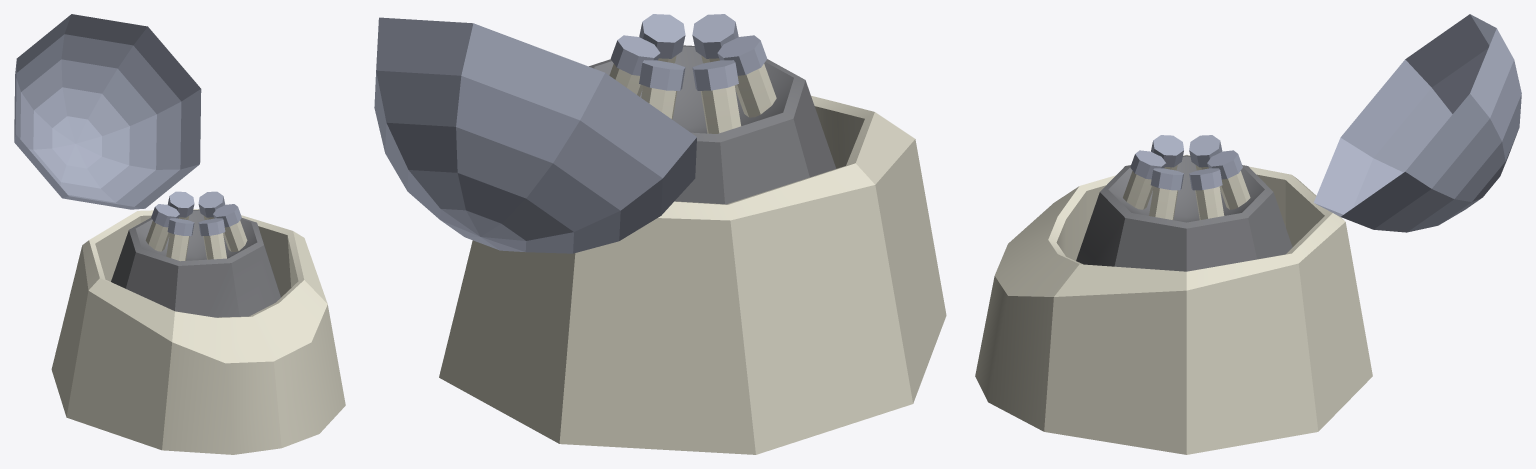
File: centrifuge.fbx
The picture shows the model from 3 angles, left to right: view 1: azimuth 30°, elevation 25°; view 2: azimuth 150°, elevation 25°; view 3: azimuth 270°, elevation 25°; orthographic projection. The views are drawn at different scales.
Visible parts, largest first — view 1: centrifuge, centrifuge_lid, group_of_test_tubes; view 2: centrifuge, centrifuge_lid, group_of_test_tubes; view 3: centrifuge, centrifuge_lid, group_of_test_tubes.
Boxes of the visible parts, box(x1,y1,x2,y2) form: centrifuge: box(51, 209, 345, 454); centrifuge_lid: box(14, 14, 201, 209); group_of_test_tubes: box(145, 191, 247, 261); centrifuge: box(439, 45, 946, 454); centrifuge_lid: box(374, 17, 696, 253); group_of_test_tubes: box(609, 14, 776, 133); centrifuge: box(975, 154, 1372, 454); centrifuge_lid: box(1313, 14, 1521, 232); group_of_test_tubes: box(1123, 135, 1250, 220).
Bounding box in the file's own units: 30.85 × 31.81 × 45.27.
